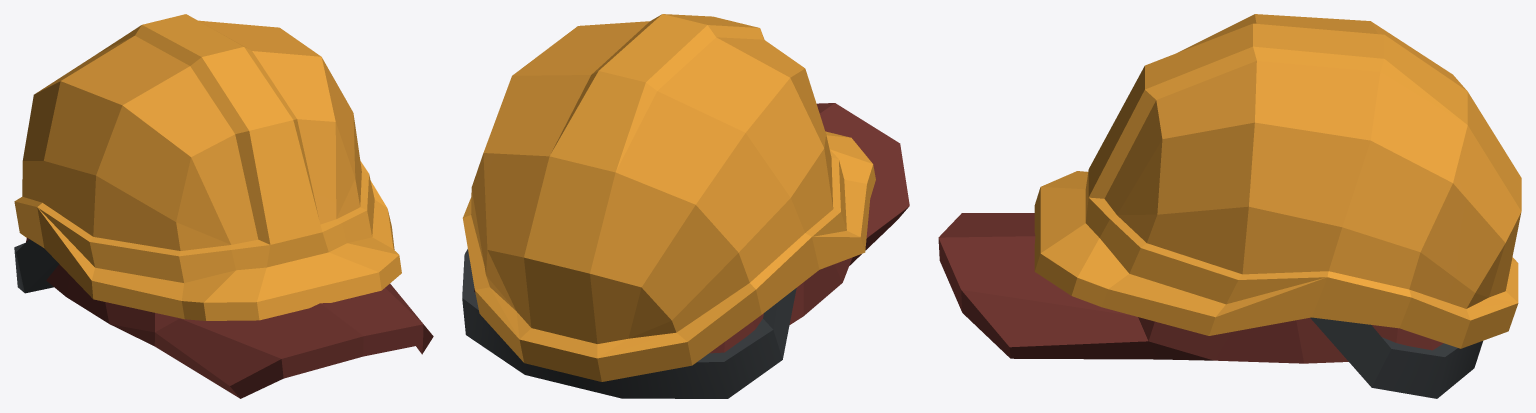
The model's file is hat-hardhat.glb.
The picture shows the model from 3 angles, left to right: view 1: azimuth 30°, elevation 25°; view 2: azimuth 150°, elevation 25°; view 3: azimuth 270°, elevation 25°; orthographic projection. The views are drawn at different scales.
Visible parts, largest first — view 1: Hat; view 2: Hat; view 3: Hat.
Boxes of the visible parts, box(x1,y1,x2,y2) form: Hat: box(14, 14, 433, 398); Hat: box(462, 14, 909, 398); Hat: box(938, 14, 1521, 398).
Size of the model in its own units: 0.2963 by 0.254 by 0.4395.
Materials: 1 (1 with a texture image).
